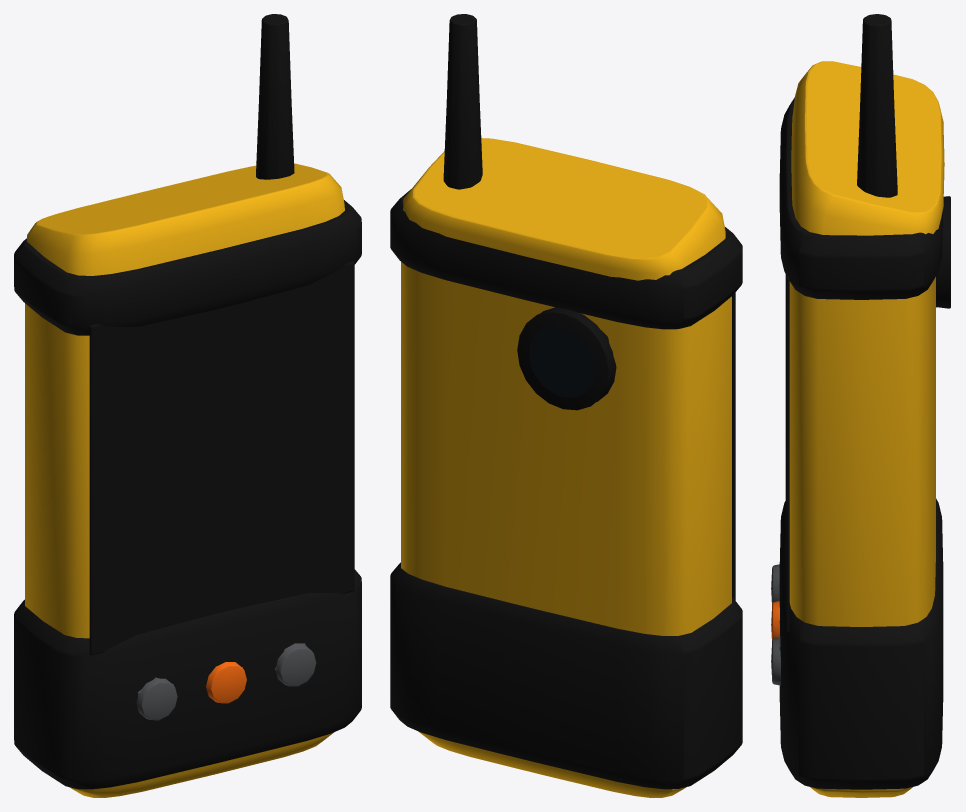
File: survey_scanner.glb
3 views of the same model, side by side, from view 1: azimuth 30°, elevation 25°; view 2: azimuth 150°, elevation 25°; view 3: azimuth 270°, elevation 25° (orthographic). The views are drawn at different scales.
Parts seen in each view (by area): view 1: survey_scanner; view 2: survey_scanner; view 3: survey_scanner.
Boxes of the visible parts, left/top/right/bottom form: survey_scanner: left=14, top=14, right=361, bottom=797; survey_scanner: left=390, top=14, right=742, bottom=797; survey_scanner: left=771, top=14, right=950, bottom=797.
Size of the model in its own units: 0.0976 by 0.215 by 0.046.
